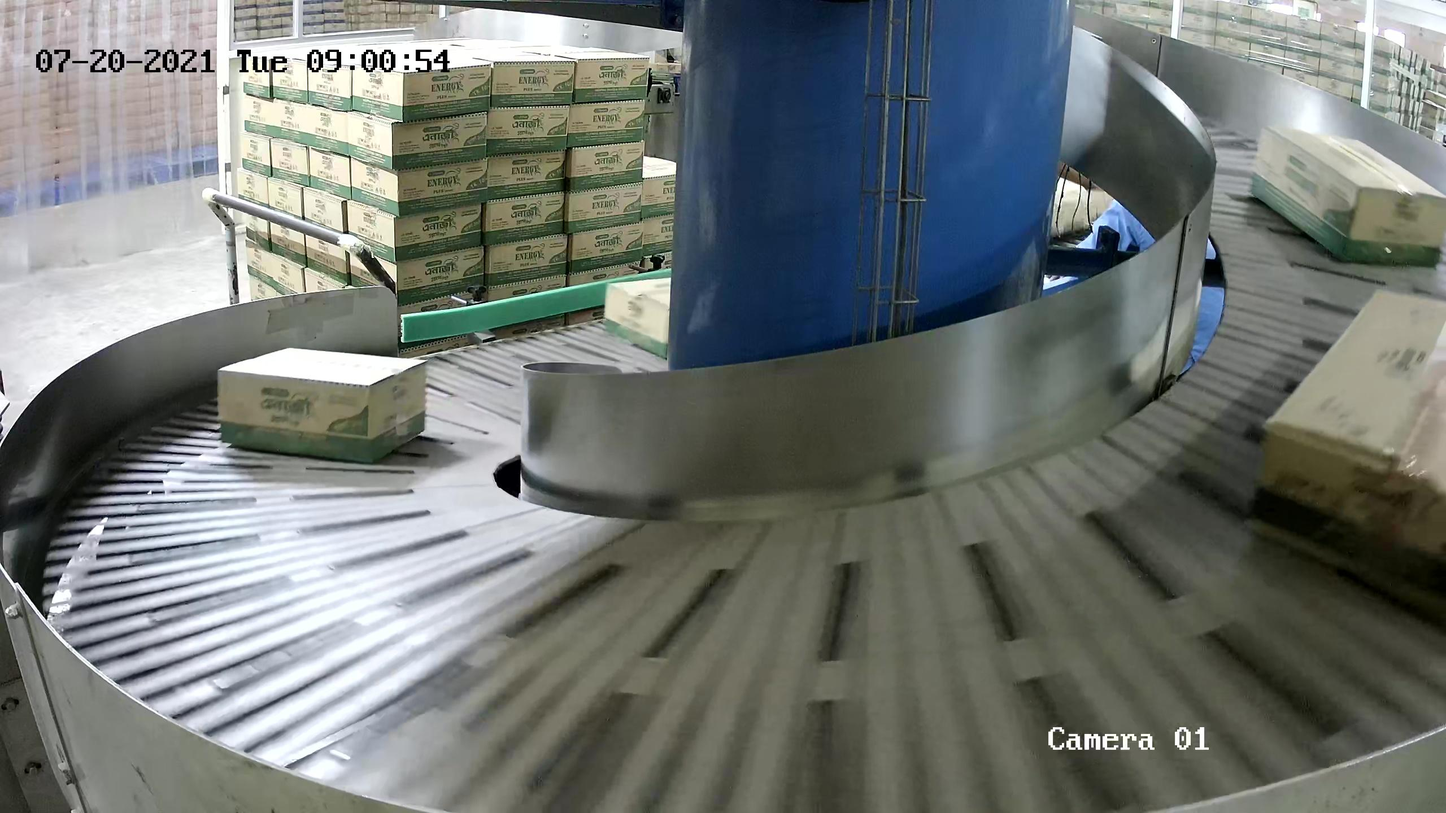Box: (1248, 286, 1446, 605), (1247, 120, 1446, 266), (218, 347, 427, 464), (604, 273, 740, 360)
